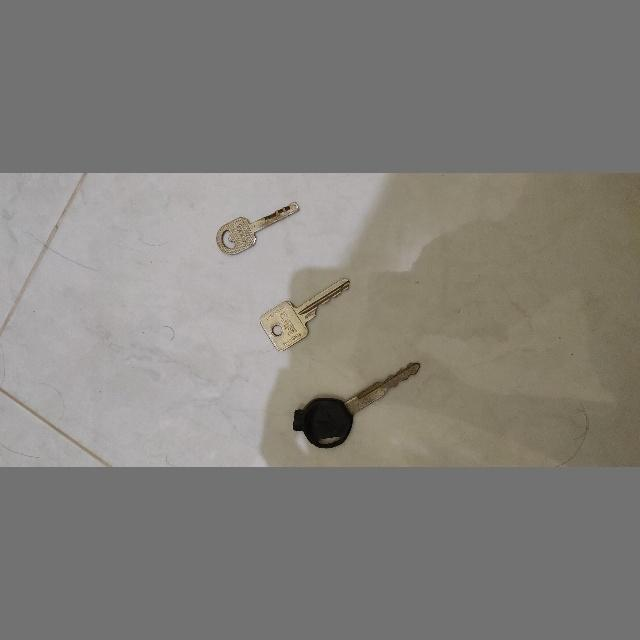Keys: (288, 354, 428, 456), (254, 274, 352, 354), (212, 200, 300, 260)
